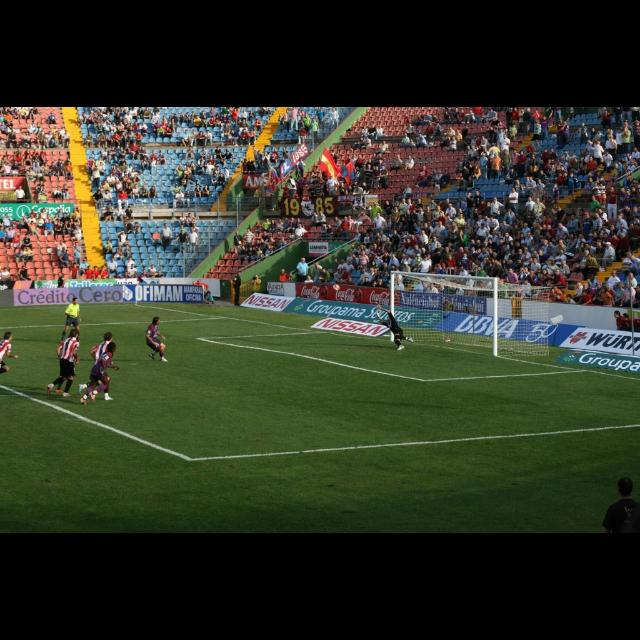Football: (332, 284, 338, 290)
